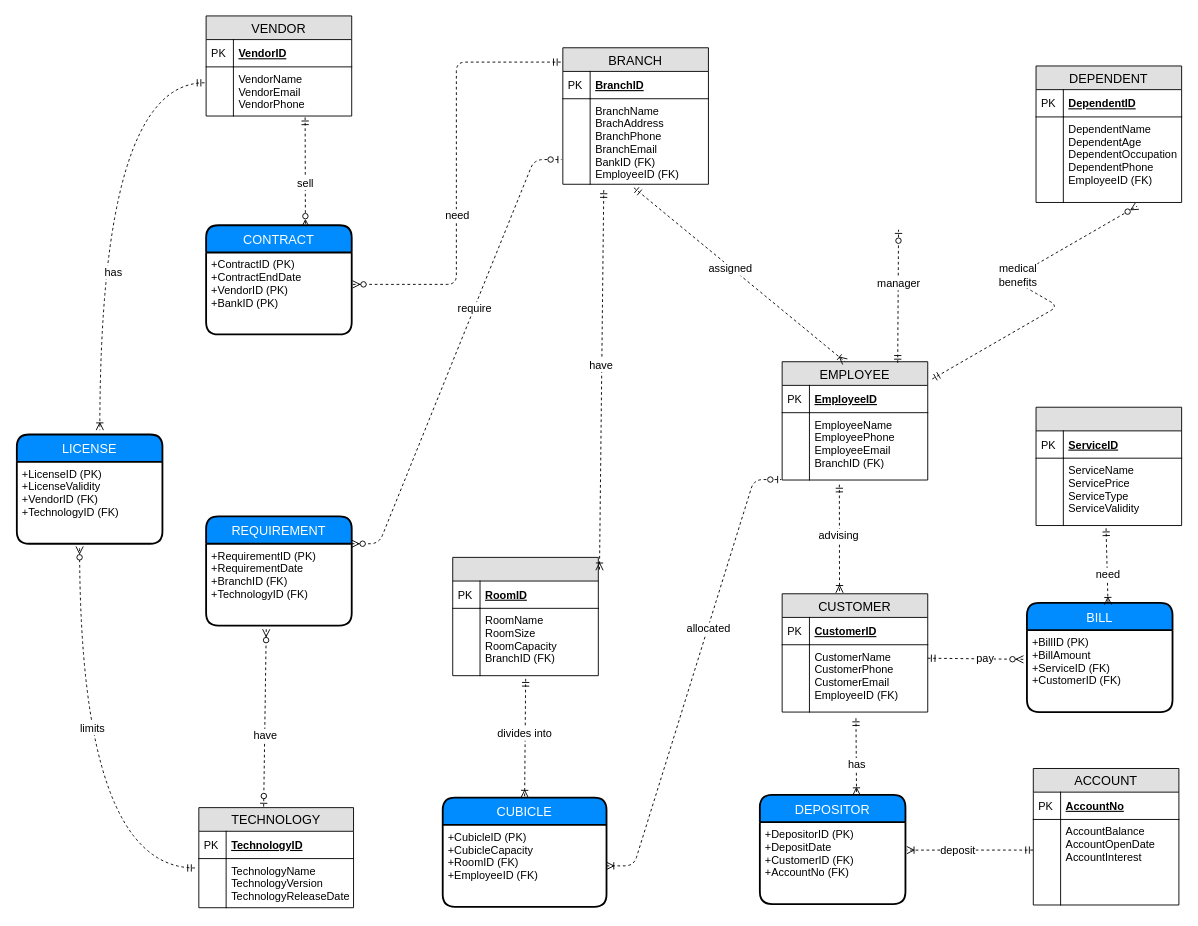
This 1198x926 diagram has some shape labels left out. The shapes that lost their labels are listed below. From the top down, each one's box as (x1, y1, x2, y2) in pixels, then its label:
(1035, 406, 1182, 526): SERVICES
(452, 556, 598, 676): OFFICE ROOM
